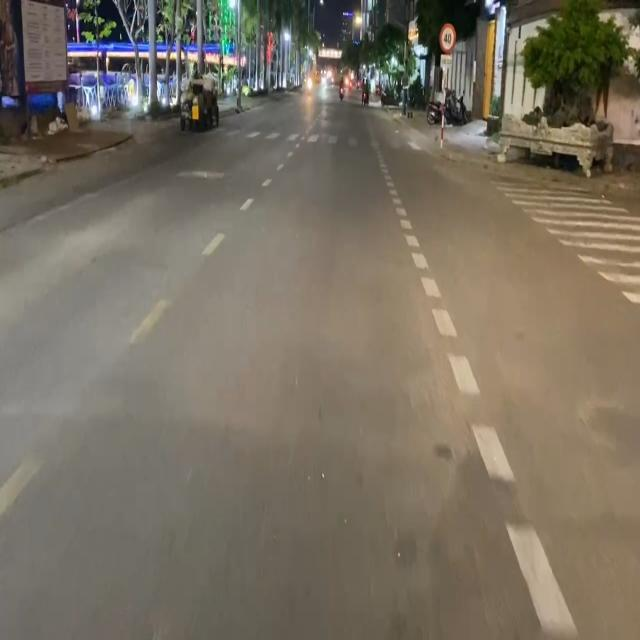walk-crossing: (496, 176, 640, 308), (215, 125, 428, 152)
